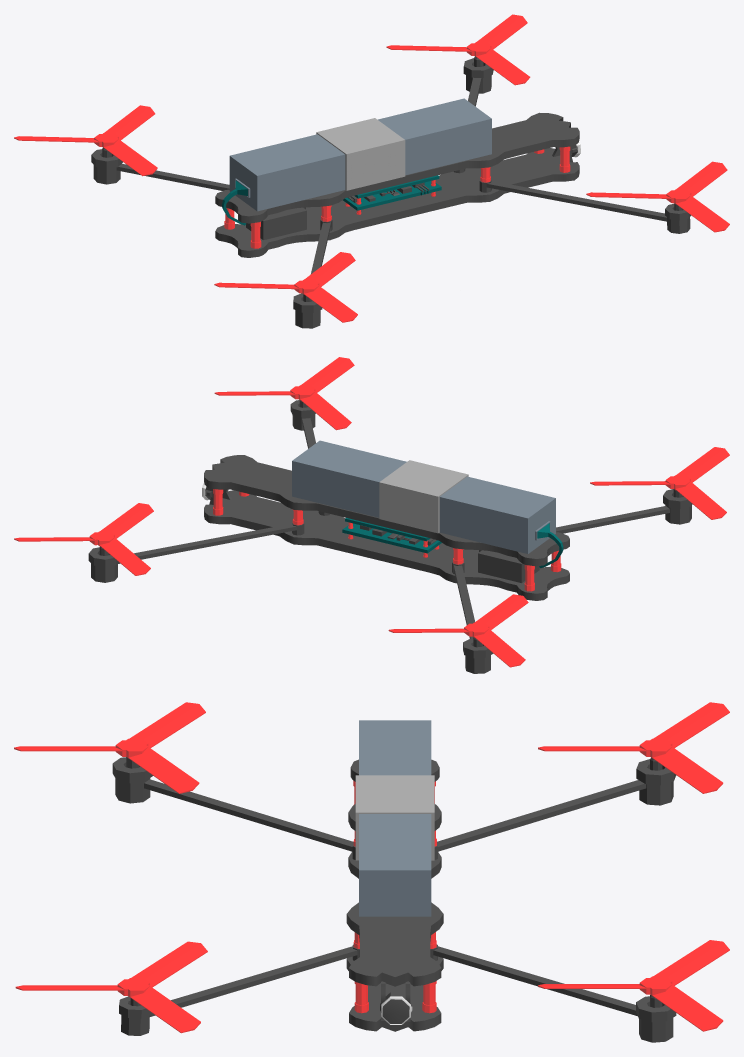
File: drooneex.glb
3 renders of one model, top to bottom at view 1: azimuth 30°, elevation 25°; view 2: azimuth 150°, elevation 25°; view 3: azimuth 270°, elevation 25°, orthographic. The views are drawn at different scales.
Parts seen in each view (by area): view 1: AKB, carcas, pasted__pasted__pCube1, vint1.001, винт:pasted__pDisc1.001, винт:pasted__pDisc1.002, винт:pasted__pDisc1.003, pCylinder1, pCube5, pCube6, pasted__pCylinder1.003, pasted__pCylinder1.002 (+4 smaller); view 2: AKB, carcas, pasted__pasted__pCube1, винт:pasted__pDisc1.001, vint1.001, винт:pasted__pDisc1.003, винт:pasted__pDisc1.002, pCylinder1.001, pCube5, pCube6, pCylinder1.003, pasted__pCylinder1.001 (+4 smaller); view 3: AKB, pasted__pasted__pCube1, винт:pasted__pDisc1.002, vint1.001, винт:pasted__pDisc1.003, винт:pasted__pDisc1.001, carcas, pCylinder1.002, pCylinder1.003, pCylinder1.001, pCylinder1, pasted__pCylinder1.001 (+4 smaller).
Part boxes in pixels (<box>): AKB: <box>229,98,491,211</box>; carcas: <box>215,148,579,257</box>; pasted__pasted__pCube1: <box>215,112,579,223</box>; vint1.001: <box>586,161,729,232</box>; винт:pasted__pDisc1.001: <box>386,14,530,85</box>; винт:pasted__pDisc1.002: <box>14,105,157,176</box>; винт:pasted__pDisc1.003: <box>214,252,357,322</box>; pCylinder1: <box>479,179,666,221</box>; pCube5: <box>246,207,306,240</box>; pCube6: <box>343,181,441,210</box>; pasted__pCylinder1.003: <box>91,148,122,184</box>; pasted__pCylinder1.002: <box>293,293,322,328</box>; AKB: <box>292,440,555,553</box>; carcas: <box>204,490,569,600</box>; pasted__pasted__pCube1: <box>204,455,569,566</box>; винт:pasted__pDisc1.001: <box>14,503,153,575</box>; vint1.001: <box>214,357,354,430</box>; винт:pasted__pDisc1.003: <box>590,447,729,519</box>; винт:pasted__pDisc1.002: <box>388,594,528,667</box>; pCylinder1.001: <box>118,522,304,563</box>; pCube5: <box>478,550,539,583</box>; pCube6: <box>342,523,441,553</box>; pCylinder1.003: <box>479,506,669,551</box>; pasted__pCylinder1.001: <box>88,546,118,582</box>; AKB: <box>355,720,434,916</box>; pasted__pasted__pCube1: <box>346,759,443,986</box>; винт:pasted__pDisc1.002: <box>538,702,729,793</box>; vint1.001: <box>15,941,207,1033</box>; винт:pasted__pDisc1.003: <box>14,702,205,793</box>; винт:pasted__pDisc1.001: <box>538,940,729,1031</box>; carcas: <box>346,851,443,1031</box>; pCylinder1.002: <box>434,780,646,859</box>; pCylinder1.003: <box>144,779,358,860</box>; pCylinder1.001: <box>430,944,637,1016</box>; pCylinder1: <box>149,944,359,1016</box>; pasted__pCylinder1.001: <box>636,995,676,1042</box>.
Bounding box in the file's own units: 22.71 × 3.4 × 21.26.
